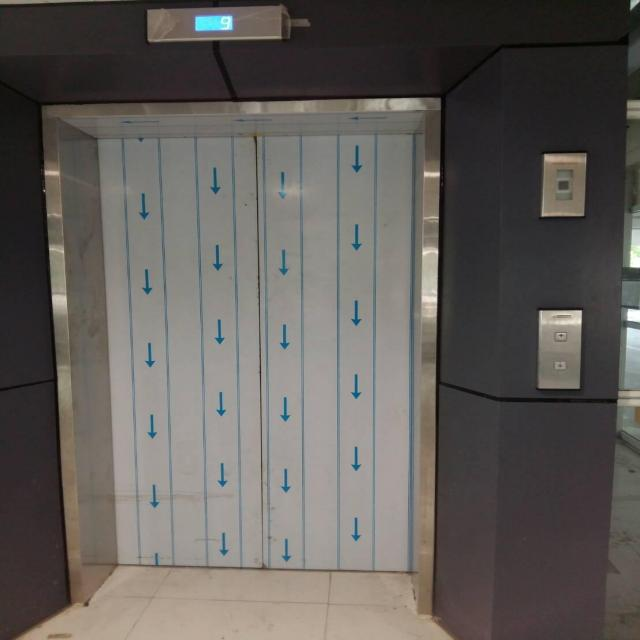keyhole: (552, 360, 566, 370)
led: (192, 14, 234, 32)
up: (554, 331, 568, 341)
